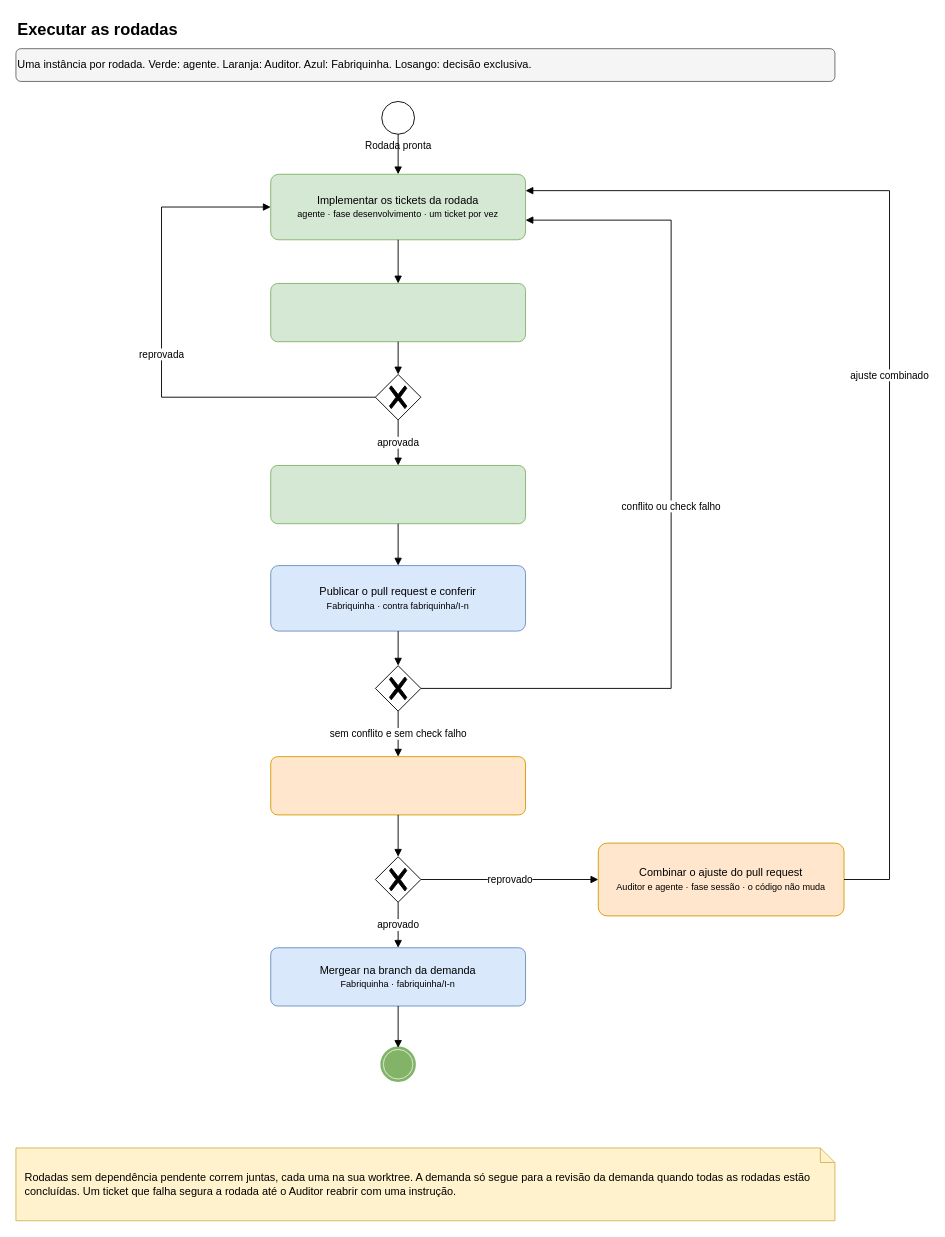
This 945x1237 diagram has some shape labels left out. Here are the shapes that lost their labels. From the top down, the centre of each, then its label:
point (398, 312): Revisar a rodada agente · fase revisão
point (398, 494): Documentar a rodada agente · fase encerramento
point (398, 785): Decidir o pull request Auditor · fase aprovação do pull request
point (398, 1064): Rodada concluída
